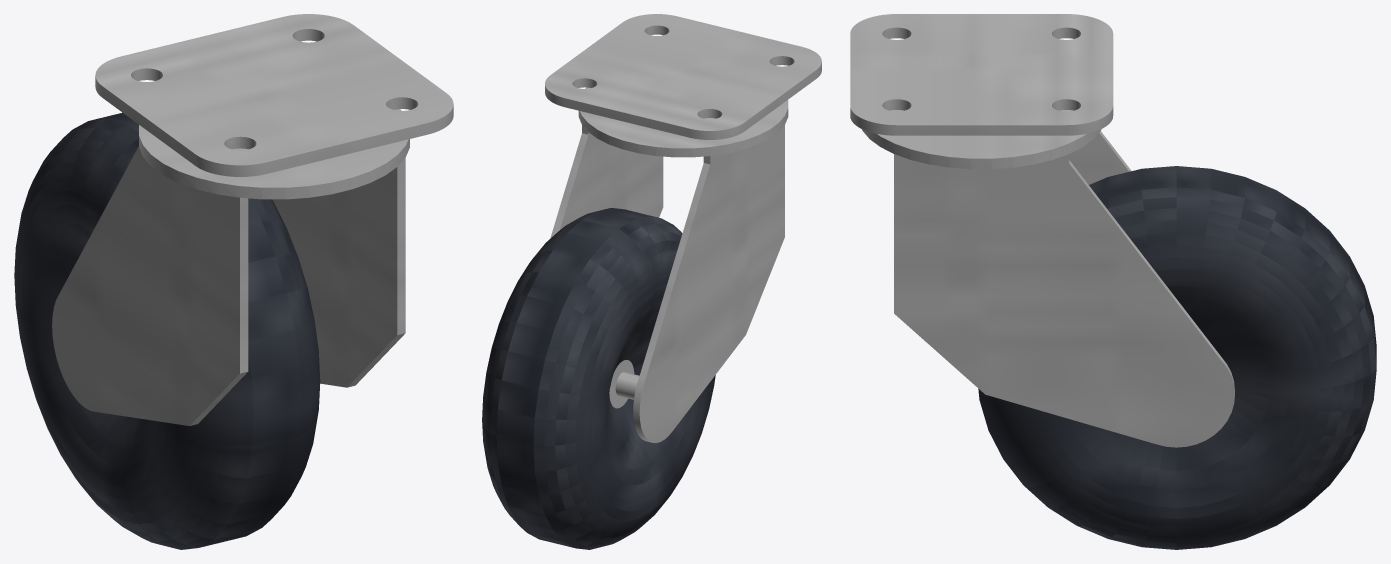
File: Stuetzrad.dae
3 renders of one model, left to right at view 1: azimuth 30°, elevation 25°; view 2: azimuth 150°, elevation 25°; view 3: azimuth 270°, elevation 25°, orthographic. The views are drawn at different scales.
Parts seen in each view (by area): view 1: SketchUp (×3); view 2: SketchUp (×5); view 3: SketchUp (×4).
Boxes of the visible parts, x1=… form: SketchUp (×3): x1=14, y1=14, x2=453, y2=549; SketchUp (×5): x1=482, y1=14, x2=821, y2=549; SketchUp (×4): x1=850, y1=14, x2=1376, y2=549.
Bounding box in the file's own units: 1.77 × 3.55 × 3.49.
2 materials, 2 textured.
